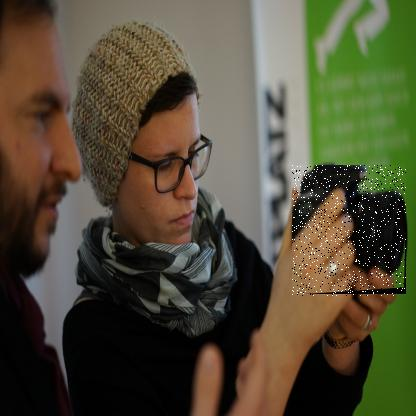Camera: (293, 167, 408, 299)
